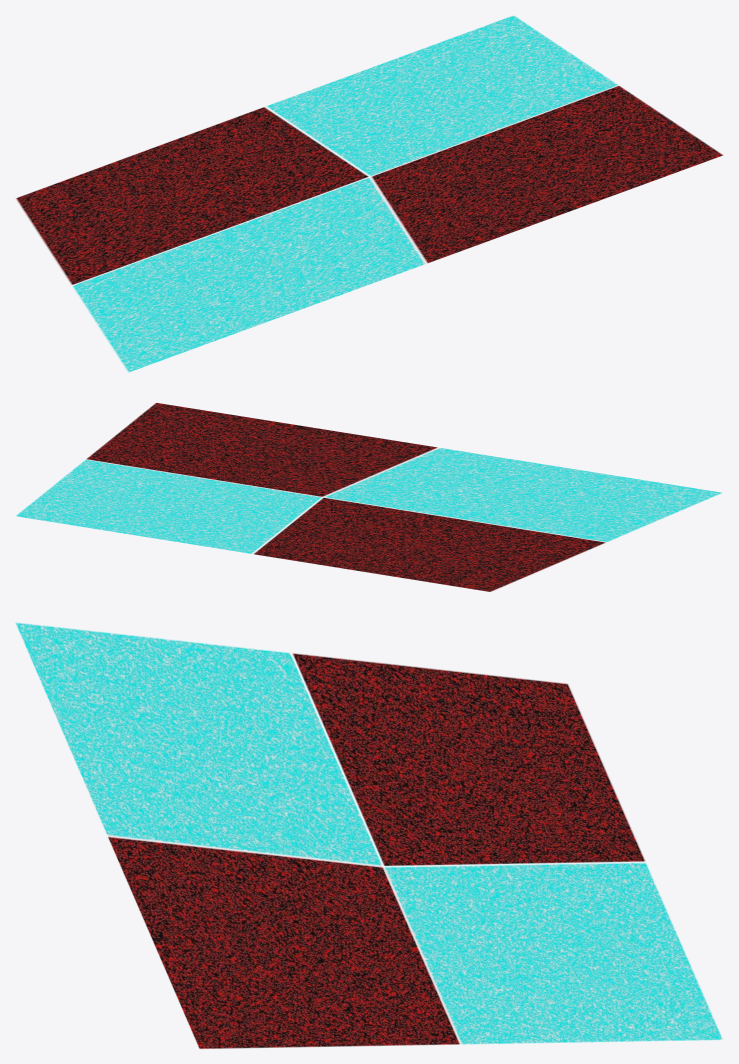
3 views of the same model, one above another, from view 1: azimuth 30°, elevation 25°; view 2: azimuth 150°, elevation 25°; view 3: azimuth 270°, elevation 25° (orthographic). The views are drawn at different scales.
Visible parts, largest first — view 1: SM_VFX_GF_River02_LOD0; view 2: SM_VFX_GF_River02_LOD0; view 3: SM_VFX_GF_River02_LOD0.
Boxes of the visible parts, <box> form: SM_VFX_GF_River02_LOD0: <box>16,15,723,372</box>; SM_VFX_GF_River02_LOD0: <box>16,403,722,591</box>; SM_VFX_GF_River02_LOD0: <box>15,622,722,1048</box>.
Bounding box in the file's own units: 26.11 × 0.1817 × 18.04.
1 material, 1 textured.
